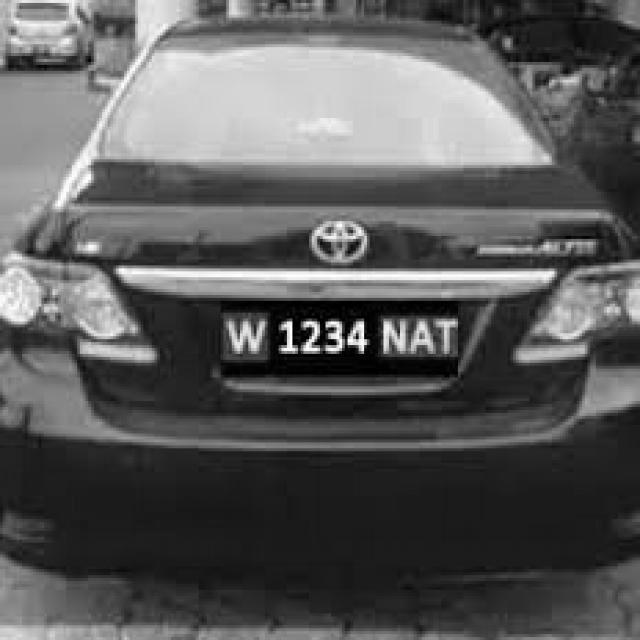1: (280, 315, 298, 362)
2: (298, 316, 324, 360)
3: (323, 315, 347, 364)
4: (346, 316, 370, 363)
A: (411, 308, 438, 368)
N: (380, 315, 410, 368)
T: (430, 313, 462, 362)
W: (226, 318, 268, 360)
